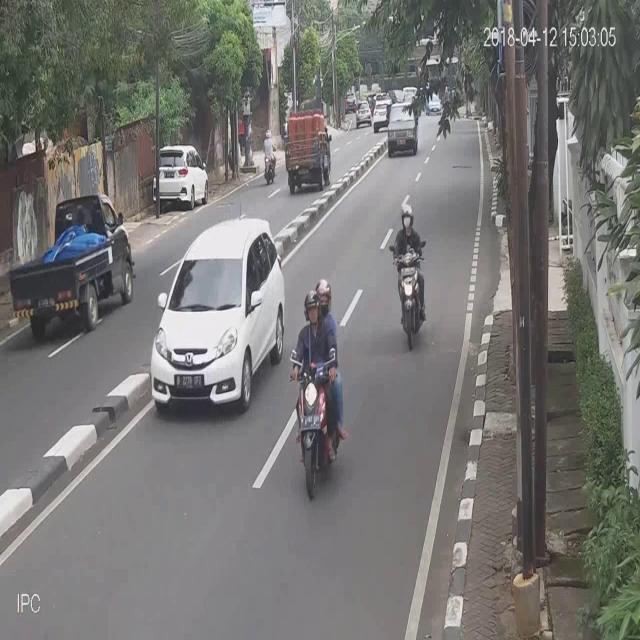bus: (290, 277, 349, 503), (388, 200, 428, 350), (260, 123, 278, 185)
motorcycle: (150, 216, 285, 411), (153, 143, 209, 211), (387, 102, 418, 158)
truck: (7, 190, 137, 340), (283, 110, 331, 191)
